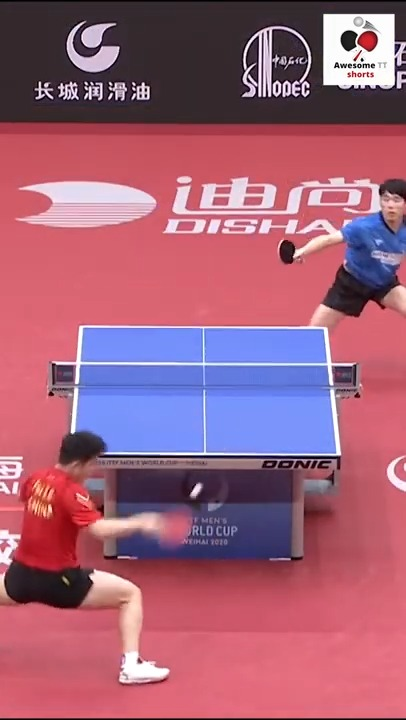Ball: (188, 481, 203, 499)
